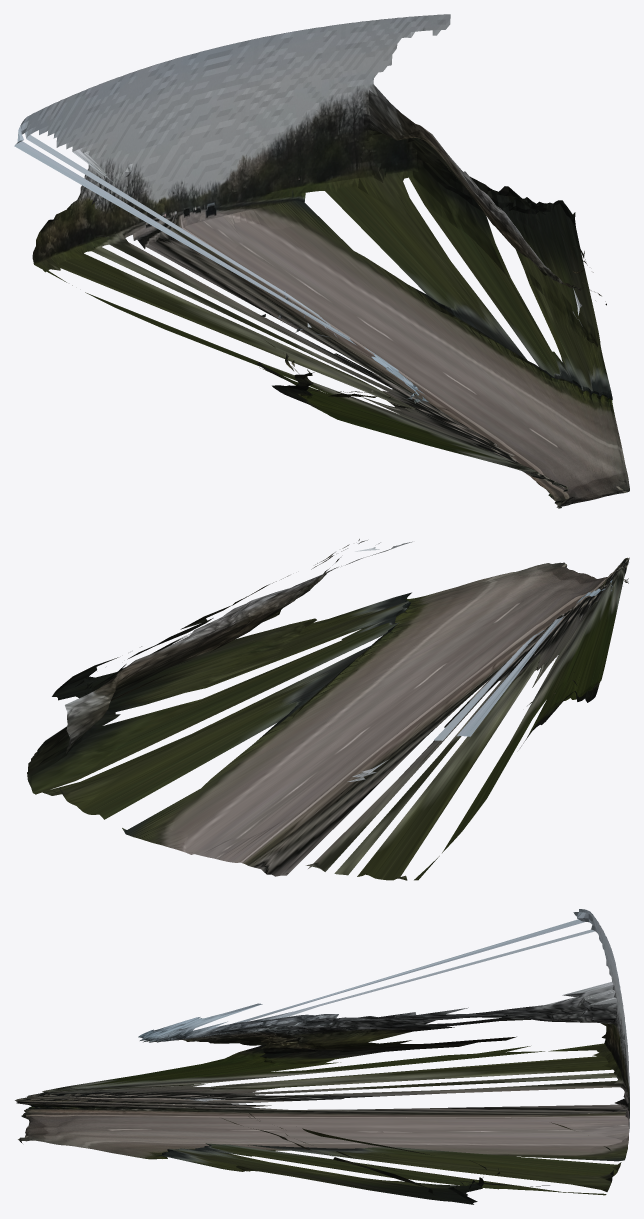
3 renders of one model, top to bottom at view 1: azimuth 30°, elevation 25°; view 2: azimuth 150°, elevation 25°; view 3: azimuth 270°, elevation 25°, orthographic. The views are drawn at different scales.
Visible parts, largest first — view 1: defaultobject; view 2: defaultobject; view 3: defaultobject.
Boxes of the visible parts, box(x1,y1,x2,y2) form: defaultobject: box(14, 14, 629, 508); defaultobject: box(27, 539, 629, 880); defaultobject: box(15, 909, 629, 1204).
Bounding box in the file's own units: 32.17 × 11.78 × 45.05.
1 material, 1 textured.
